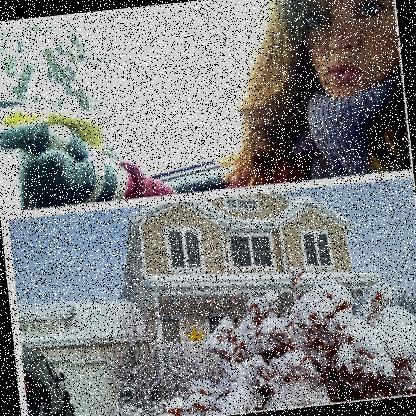Car: (15, 347, 77, 415)
